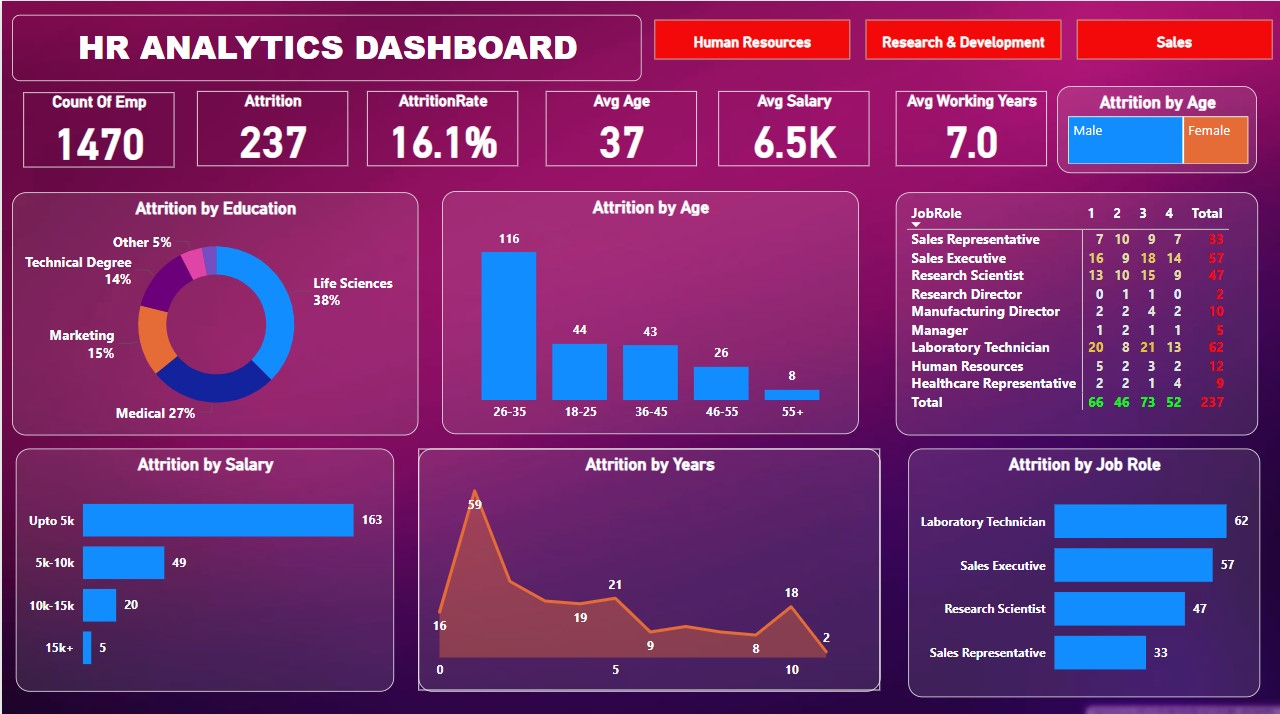

Layout of this report page (visuals, bound fields, positions):
{"tool":"powerbi","page":{"name":"Page 1","canvas":[1280,720],"ordinal":0},"visuals":[{"type":"card","title":"AttritionRate","fields":{"Values":["HR_Analytics.AttritionRate"]},"box":[365,90.6,150.9,75.5],"z":0},{"type":"card","title":"Attrition","fields":{"Values":["Sum(HR_Analytics.AttritionCount)"]},"box":[194.9,90.6,150.9,75.5],"z":1000},{"type":"card","title":"Count Of Emp","fields":{"Values":["CountNonNull(HR_Analytics.EmpID)"]},"box":[21,91,150.9,75.5],"z":2000},{"type":"card","title":"Avg Age","fields":{"Values":["Avg(HR_Analytics.Age)"]},"box":[543.4,90.6,150.9,75.5],"z":3000},{"type":"card","title":"Avg Salary","fields":{"Values":["Avg(HR_Analytics.MonthlyIncome)"]},"box":[716.3,90.6,150.9,75.5],"z":4000},{"type":"card","title":"Avg Working Years","fields":{"Values":["Avg(HR_Analytics.YearsAtCompany)"]},"box":[893.3,90.6,150.9,75.5],"z":5000},{"type":"donutChart","title":"Attrition by Education","fields":{"Category":["HR_Analytics.EducationField"],"Y":["Sum(HR_Analytics.AttritionCount)"]},"box":[10.3,191.3,406.2,242.8],"z":6000},{"type":"columnChart","title":"Attrition by Age","fields":{"Category":["HR_Analytics.AgeGroup"],"Y":["Sum(HR_Analytics.AttritionCount)"]},"box":[440,189.8,416.5,242.8],"z":7000},{"type":"pivotTable","fields":{"Rows":["HR_Analytics.JobRole"],"Columns":["HR_Analytics.JobSatisfaction"],"Values":["Sum(HR_Analytics.AttritionCount)"]},"box":[893.3,191.3,362,242.8],"z":8000},{"type":"barChart","title":"Attrition by Salary","fields":{"Category":["HR_Analytics.SalarySlab"],"Y":["Sum(HR_Analytics.AttritionCount)"]},"box":[13.2,447.4,378.2,242.8],"z":9000},{"type":"barChart","title":"Attrition by Job Role","fields":{"Category":["HR_Analytics.JobRole"],"Y":["Sum(HR_Analytics.AttritionCount)"]},"box":[906.5,447.4,351.7,248.7],"z":10000},{"type":"areaChart","title":"Attrition by Years","fields":{"Category":["HR_Analytics.YearsAtCompany"],"Y":["Sum(HR_Analytics.AttritionCount)"]},"box":[416.5,447.4,462.1,242.8],"z":11000},{"type":"treemap","title":"Attrition by Age","fields":{"Group":["HR_Analytics.Gender"],"Values":["Sum(HR_Analytics.AttritionCount)"]},"box":[1055.1,85.4,200.1,86.8],"z":12000},{"type":"advancedSlicerVisual","fields":{"Values":["HR_Analytics.Department"]},"box":[647.5,13.2,628.4,50],"z":13000},{"type":"textbox","box":[10.3,13.2,629.8,66.2],"z":14000}]}

Visuals, with their boxes in screenshot pixels (x1, y1, x2, y2), scaled from the page's 1280x720 canvas onto the 1280x714 screenshot:
"AttritionRate" card: Rect(365, 90, 516, 165)
"Attrition" card: Rect(195, 90, 346, 165)
"Count Of Emp" card: Rect(21, 90, 172, 165)
"Avg Age" card: Rect(543, 90, 694, 165)
"Avg Salary" card: Rect(716, 90, 867, 165)
"Avg Working Years" card: Rect(893, 90, 1044, 165)
"Attrition by Education" donutChart: Rect(10, 190, 416, 430)
"Attrition by Age" columnChart: Rect(440, 188, 856, 429)
pivotTable - HR_Analytics.JobRole x HR_Analytics.JobSatisfaction: Rect(893, 190, 1255, 430)
"Attrition by Salary" barChart: Rect(13, 444, 391, 684)
"Attrition by Job Role" barChart: Rect(906, 444, 1258, 690)
"Attrition by Years" areaChart: Rect(416, 444, 879, 684)
"Attrition by Age" treemap: Rect(1055, 85, 1255, 171)
advancedSlicerVisual - HR_Analytics.Department: Rect(648, 13, 1276, 63)
textbox: Rect(10, 13, 640, 79)
